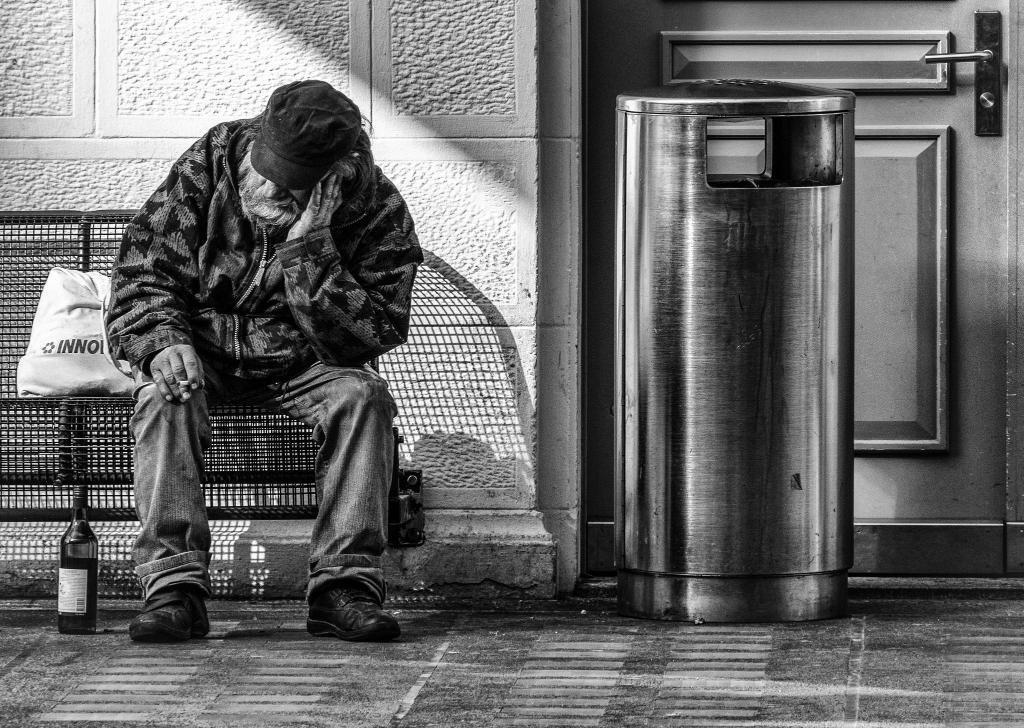Door: (583, 0, 1012, 579)
